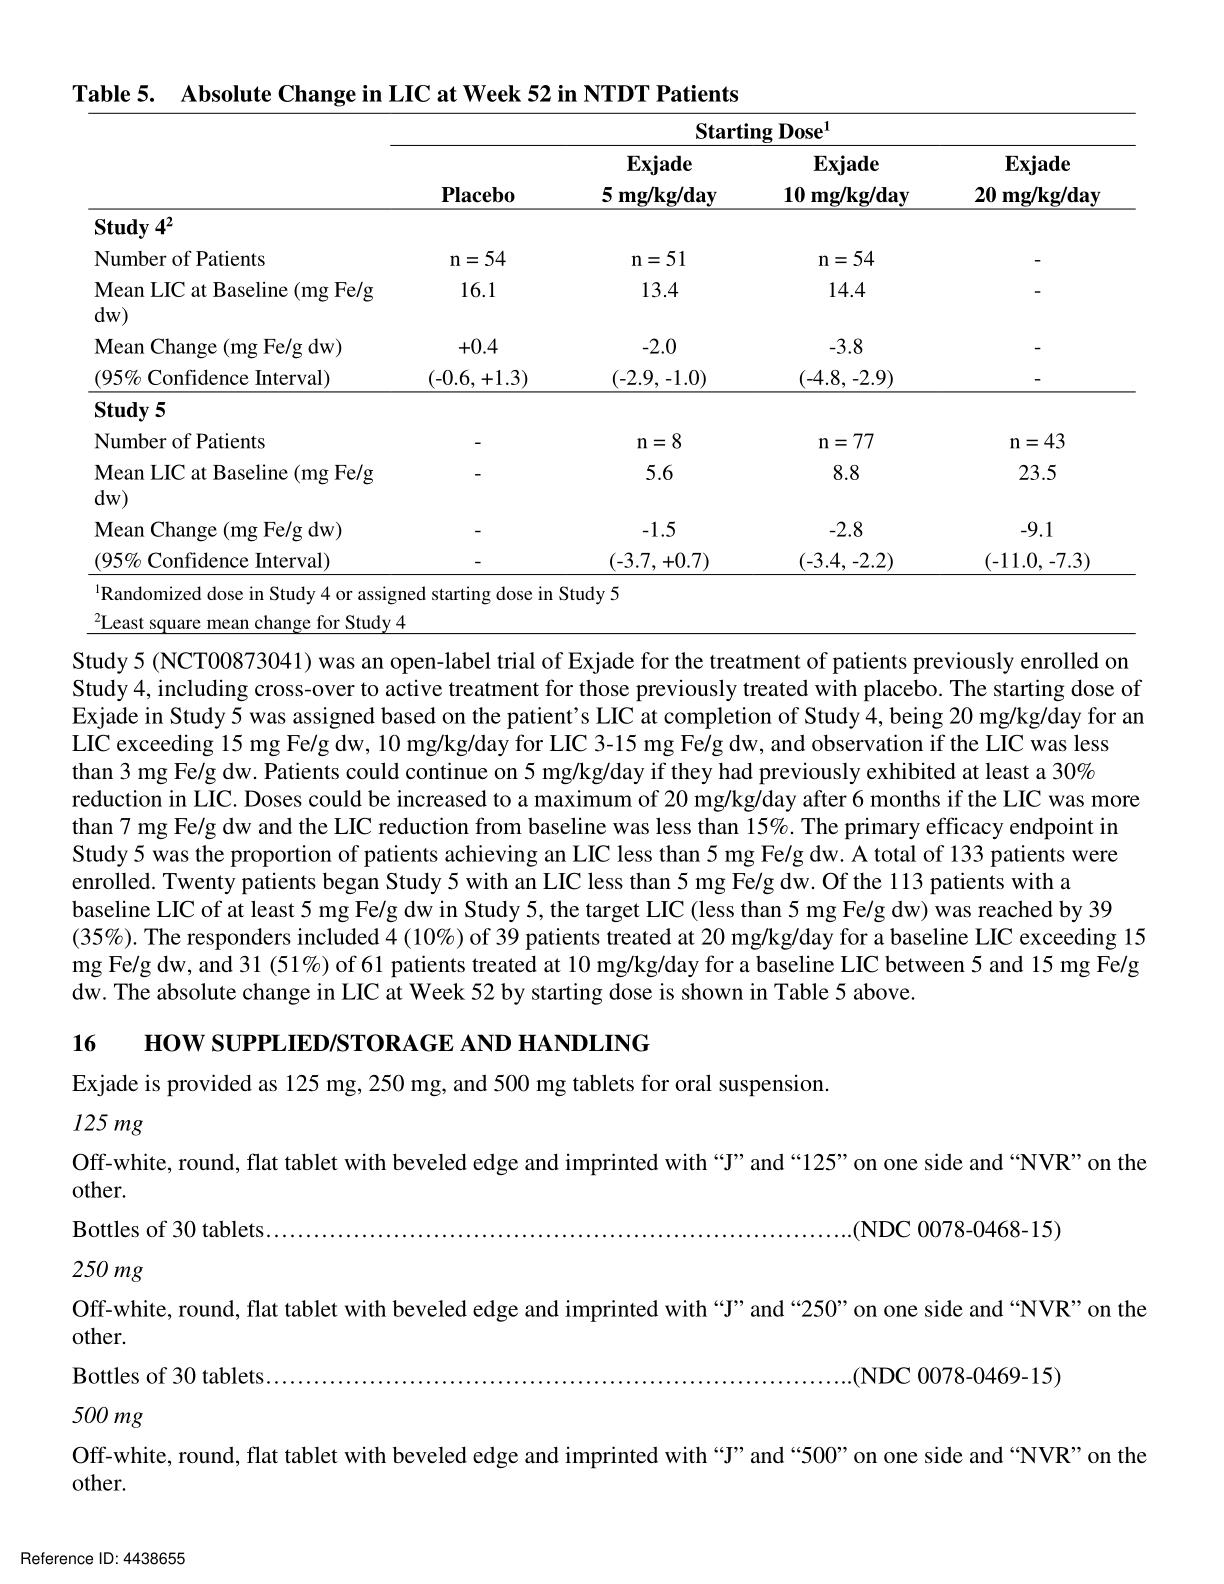partial_lined_merged_cells: (82, 109, 1143, 577)
